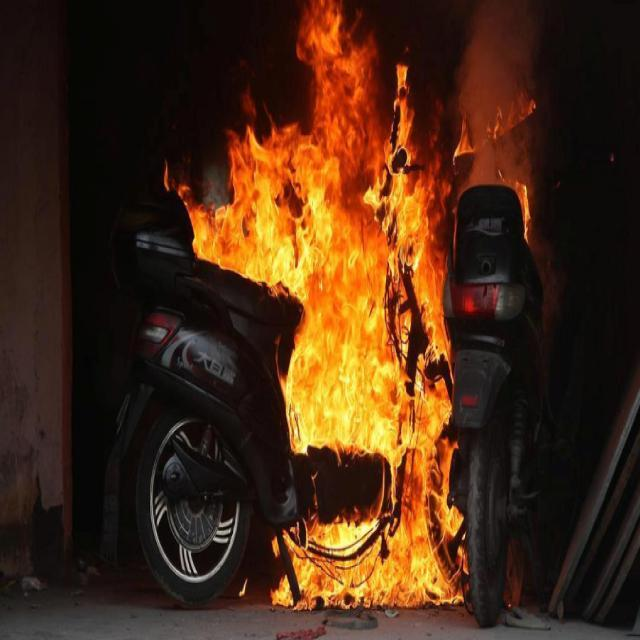Fire: (163, 0, 457, 271), (268, 274, 462, 608), (514, 180, 532, 246)
Smoke: (459, 1, 534, 182)
